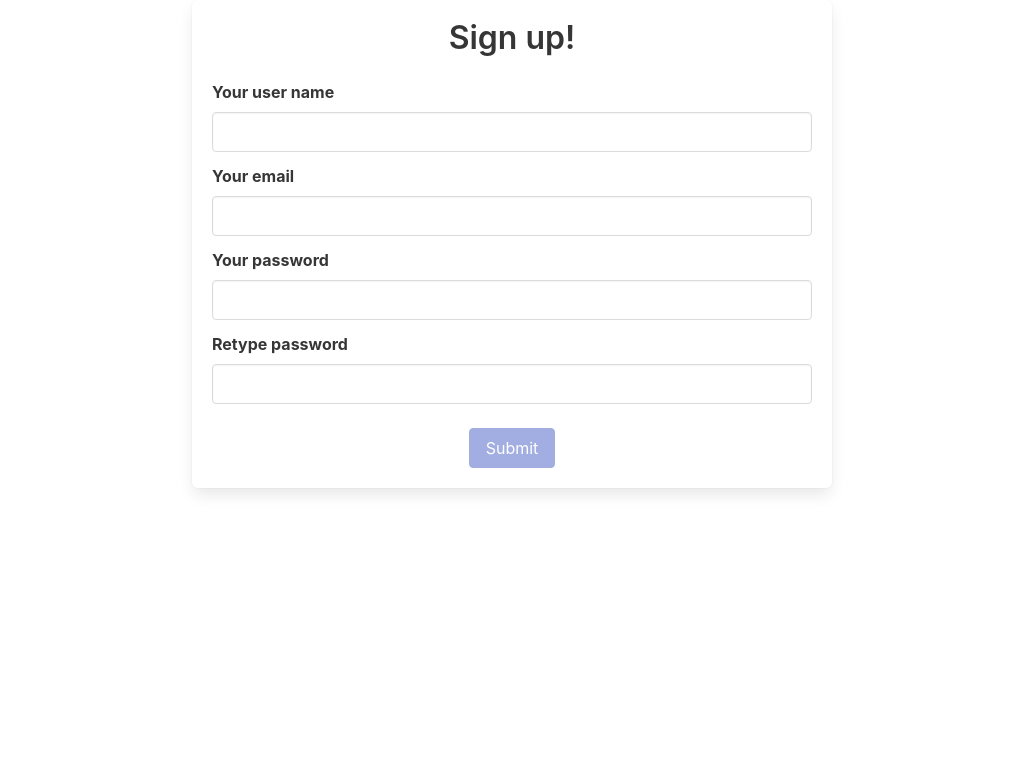
it: Signup page › on interaction level › notifies user after failing signup
In the field labelled "Your email": [512, 216] box [212,196,812,236], type "user111@mail.com"
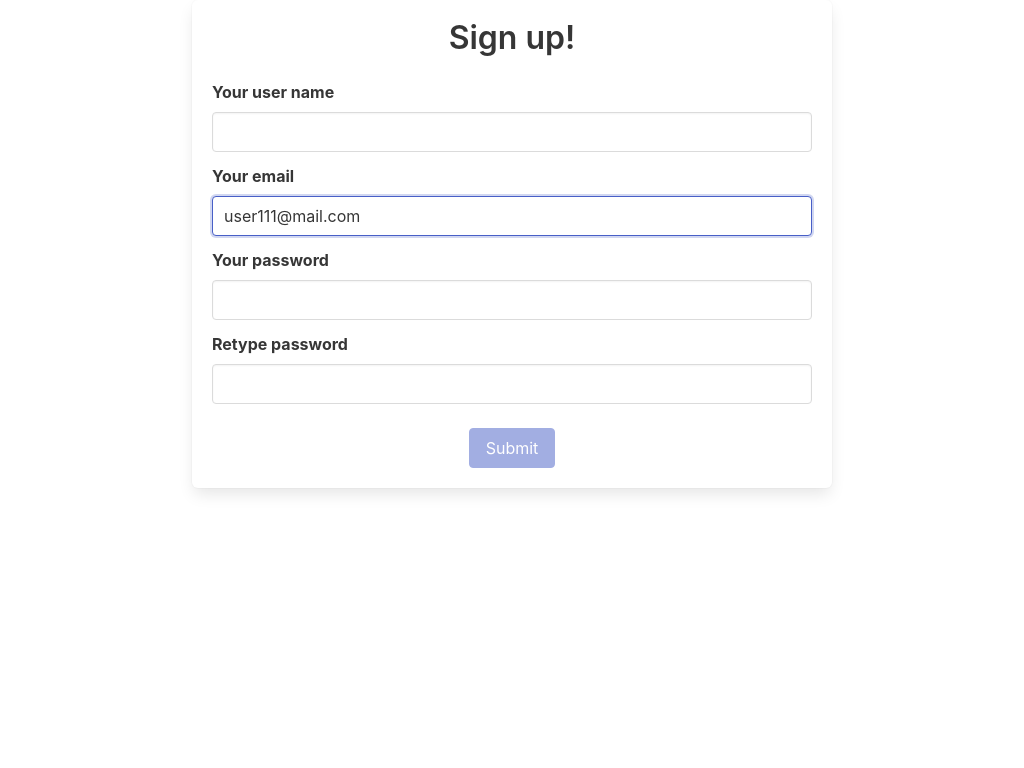
In the password field labelled "Your password": [512, 300] box [212,280,812,320], type "p4ssword"
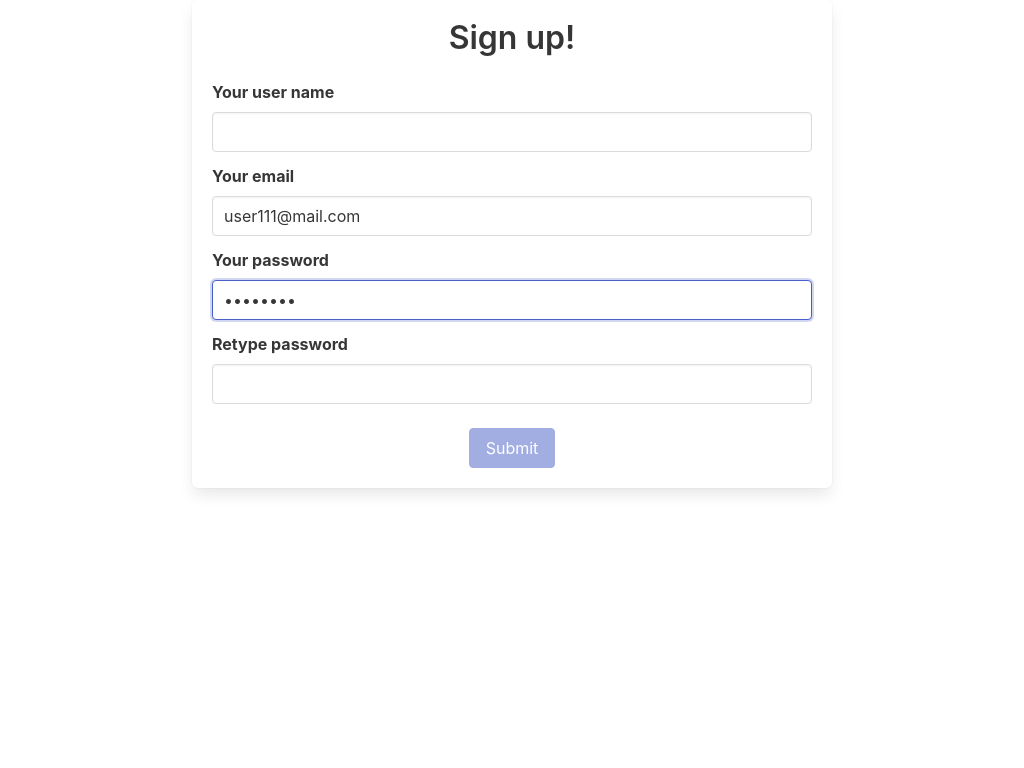
In the password field labelled "Retype password": [512, 384] box [212,364,812,404], type "p4ssword"
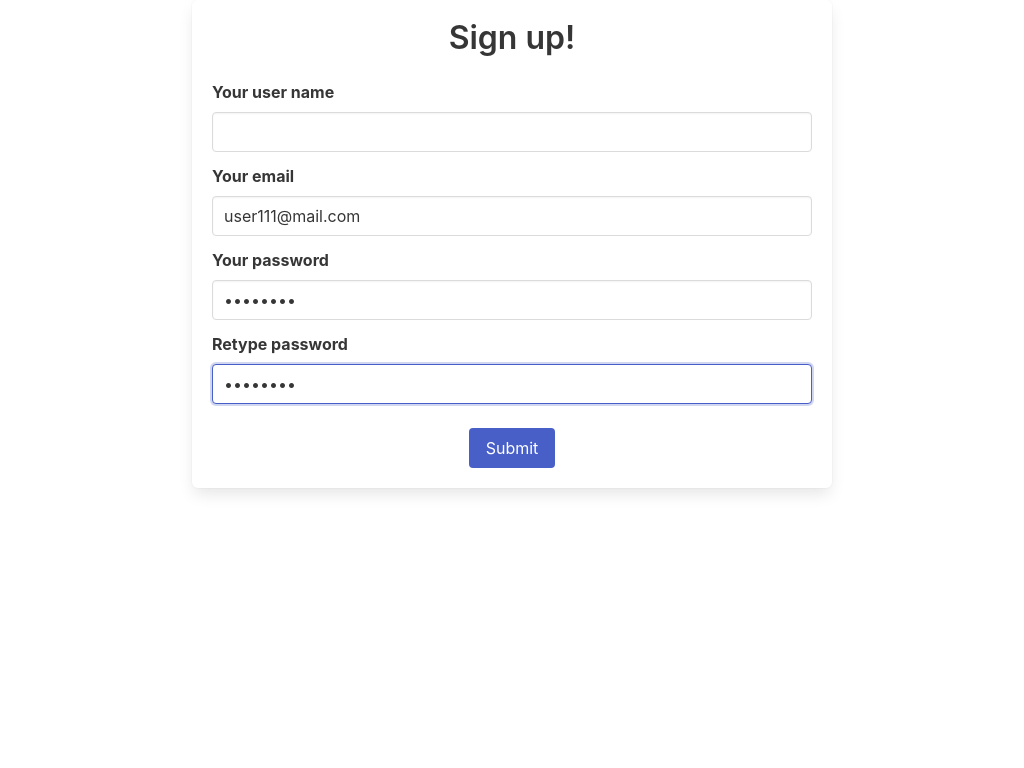
Click the button "Submit": [512, 448] box [469,428,555,468]
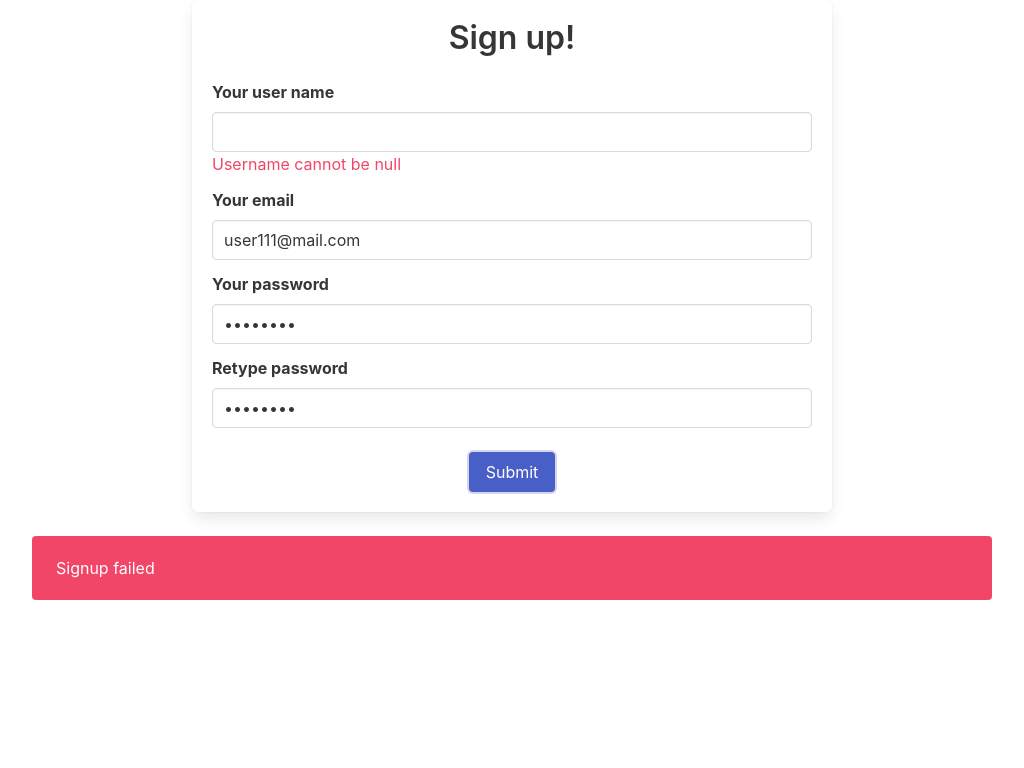
Check: the text "Signup failed" is shown, box [32,536,992,600]
